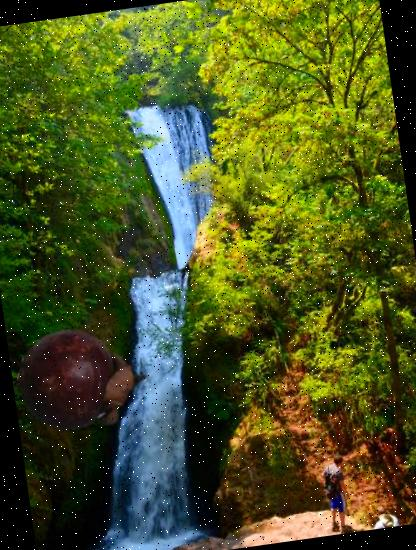Mangostan: (10, 311, 154, 456)
